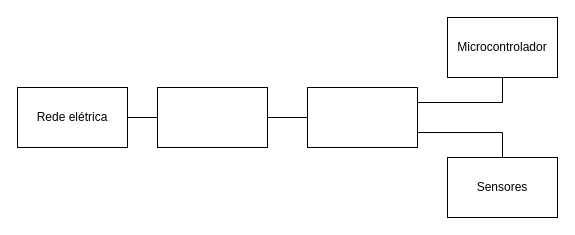
This 575x235 diagram has some shape labels left out. The shapes that lost their labels are listed below. From the top down, each one's centre as x and y in pixels, then its label:
At pixel 212 117: "Fonte chaveada 110V AC - 12V DC".
At pixel 362 117: "Conversor Buck 12V DC - 3,3V AC".
